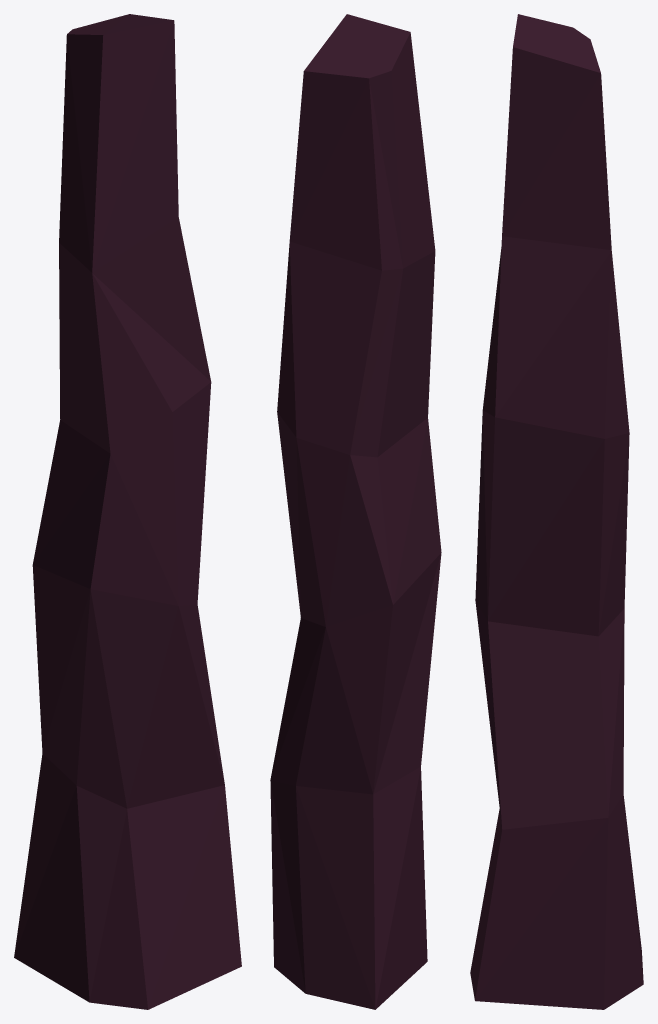
File: Fence01_Pole.FBX
3 renders of one model, left to right at view 1: azimuth 30°, elevation 25°; view 2: azimuth 150°, elevation 25°; view 3: azimuth 270°, elevation 25°, orthographic. The views are drawn at different scales.
Visible parts, largest first — view 1: Fence01_Pole; view 2: Fence01_Pole; view 3: Fence01_Pole.
Boxes of the visible parts, <box> form: Fence01_Pole: <box>14,14,241,1009</box>; Fence01_Pole: <box>270,14,441,1009</box>; Fence01_Pole: <box>470,14,643,1009</box>.
Size of the model in its own units: 0.2338 by 1.5 by 0.2485.
Materials: 1 (1 with a texture image).
